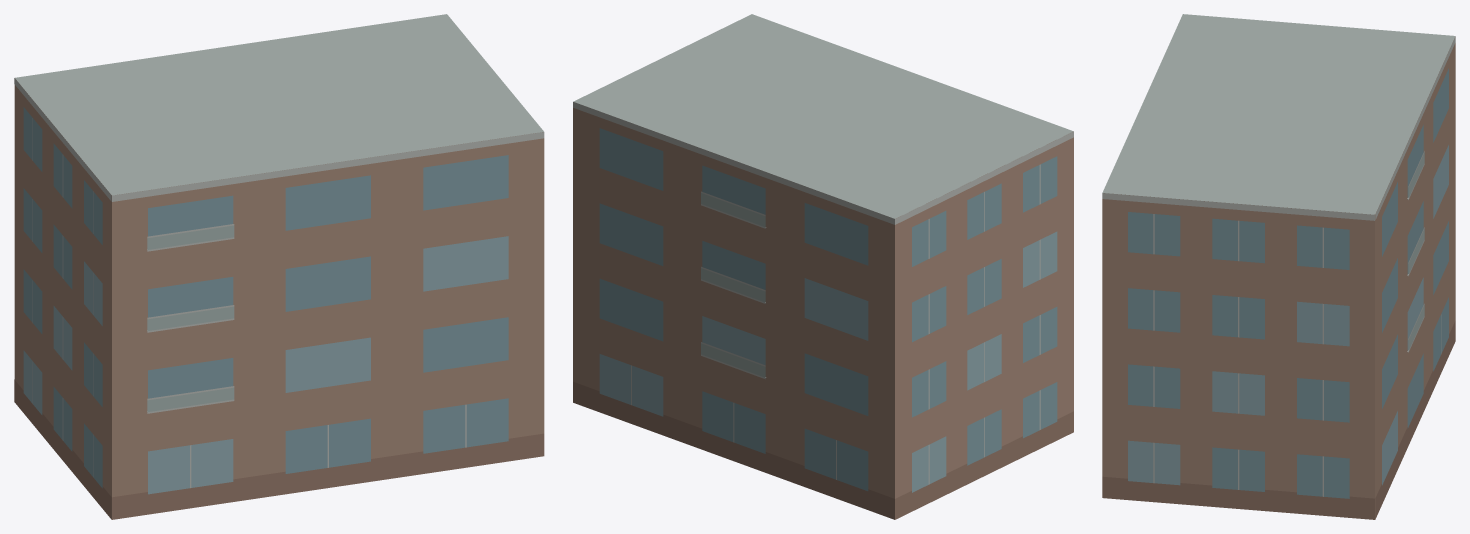
The model's file is residential-91c6c5c9-5f5c-4087-8325-70465da3dad0.glb.
The picture shows the model from 3 angles, left to right: view 1: azimuth 30°, elevation 25°; view 2: azimuth 150°, elevation 25°; view 3: azimuth 270°, elevation 25°; orthographic projection. The views are drawn at different scales.
Parts seen in each view (by area): view 1: residential-91c6c5c9-5f5c-4087-8325-70465da3dad0.tmp; view 2: residential-91c6c5c9-5f5c-4087-8325-70465da3dad0.tmp; view 3: residential-91c6c5c9-5f5c-4087-8325-70465da3dad0.tmp.
Part boxes in pixels (box(x1,y1,x2,y2)): residential-91c6c5c9-5f5c-4087-8325-70465da3dad0.tmp: box(14, 14, 544, 519); residential-91c6c5c9-5f5c-4087-8325-70465da3dad0.tmp: box(573, 14, 1073, 519); residential-91c6c5c9-5f5c-4087-8325-70465da3dad0.tmp: box(1102, 14, 1455, 519).
Bounding box in the file's own units: 17.23 × 12.2 × 12.81.
